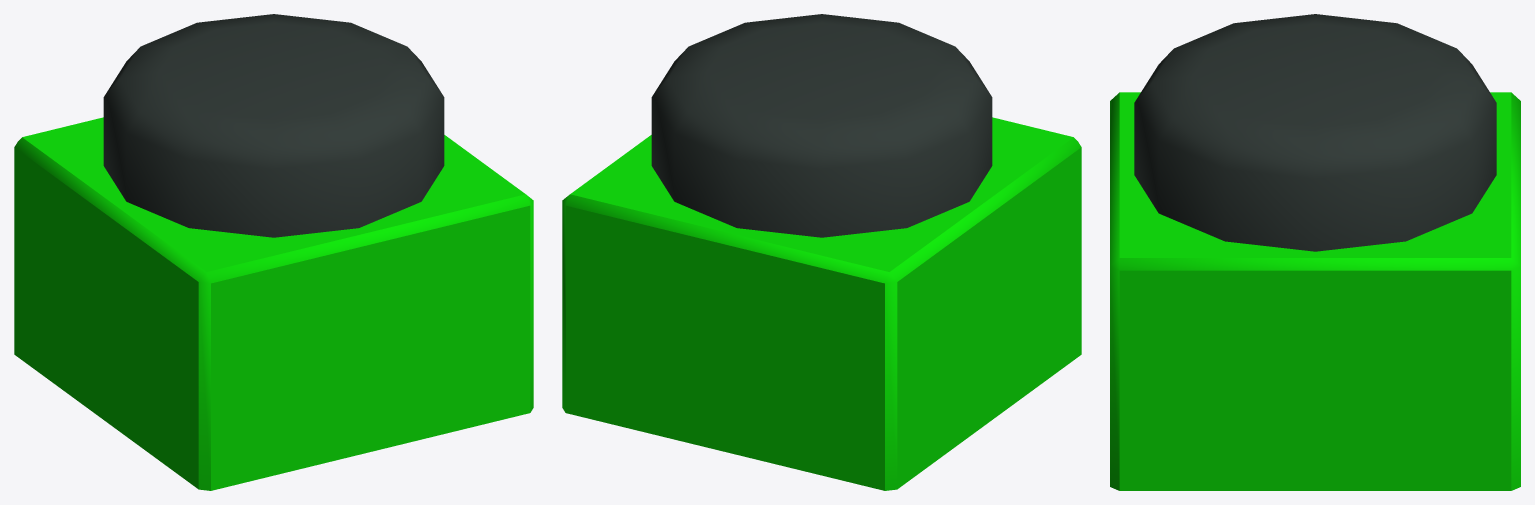
Rendered from SM_Button.fbx.
The picture shows the model from 3 angles, left to right: view 1: azimuth 30°, elevation 25°; view 2: azimuth 150°, elevation 25°; view 3: azimuth 270°, elevation 25°; orthographic projection. The views are drawn at different scales.
Visible parts, largest first — view 1: SM_Button; view 2: SM_Button; view 3: SM_Button.
Part boxes in pixels (bbox=[...]): SM_Button: bbox=[14, 14, 533, 490]; SM_Button: bbox=[562, 14, 1081, 490]; SM_Button: bbox=[1110, 14, 1520, 490].
Size of the model in its own units: 28 by 28 by 24.76.
